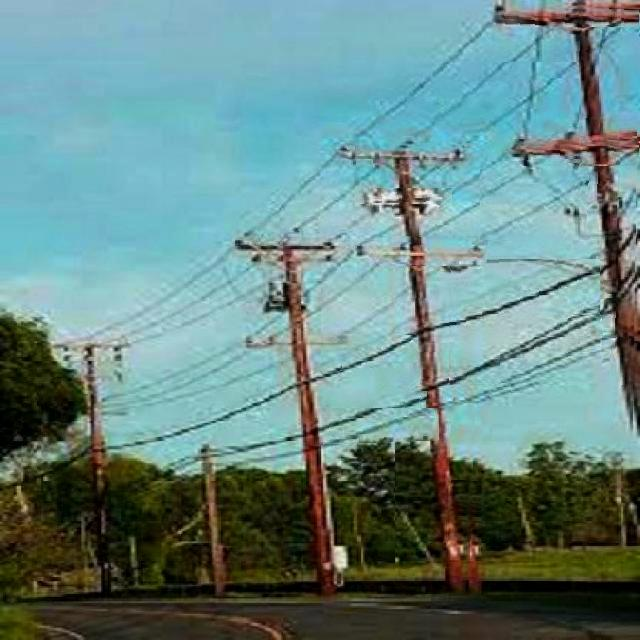crossarm: (482, 1, 640, 27), (360, 236, 488, 266), (520, 140, 639, 166), (340, 136, 465, 159), (358, 188, 452, 204)
pole: (395, 149, 472, 597), (574, 17, 637, 435)
wire: (235, 41, 486, 246), (396, 28, 554, 145), (450, 315, 597, 385), (464, 62, 577, 148), (454, 259, 597, 325), (454, 350, 610, 403), (480, 173, 589, 240), (286, 161, 373, 231), (316, 408, 431, 445), (323, 391, 427, 430), (346, 335, 418, 363), (320, 363, 341, 373), (313, 373, 320, 384)
